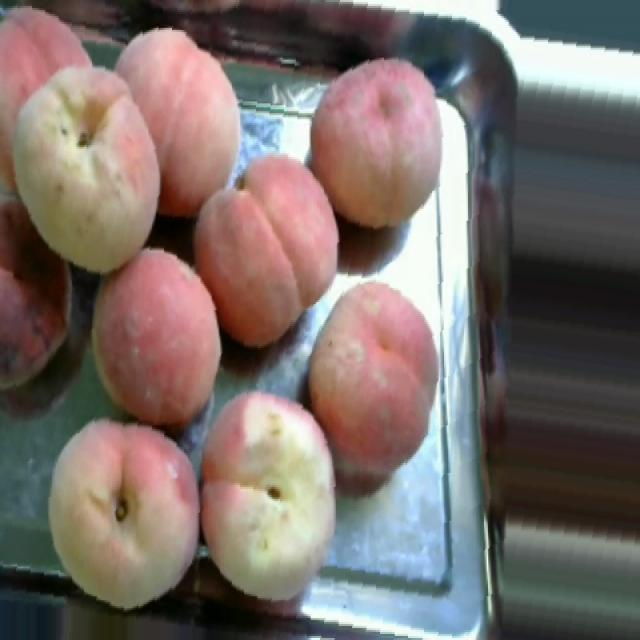Fruit: (0, 31, 177, 288), (179, 139, 357, 364), (197, 370, 359, 616), (28, 398, 201, 626), (291, 268, 456, 505), (71, 235, 245, 447), (98, 12, 262, 227), (296, 44, 461, 244), (0, 177, 92, 419)
